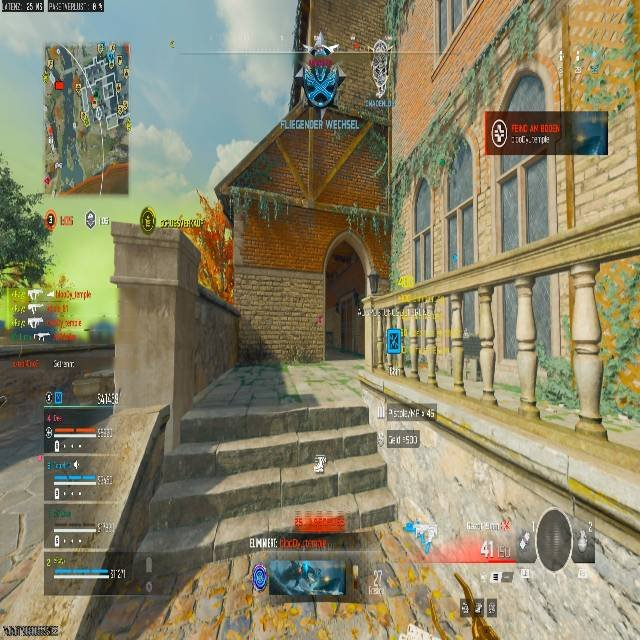player: (298, 36, 341, 122)
